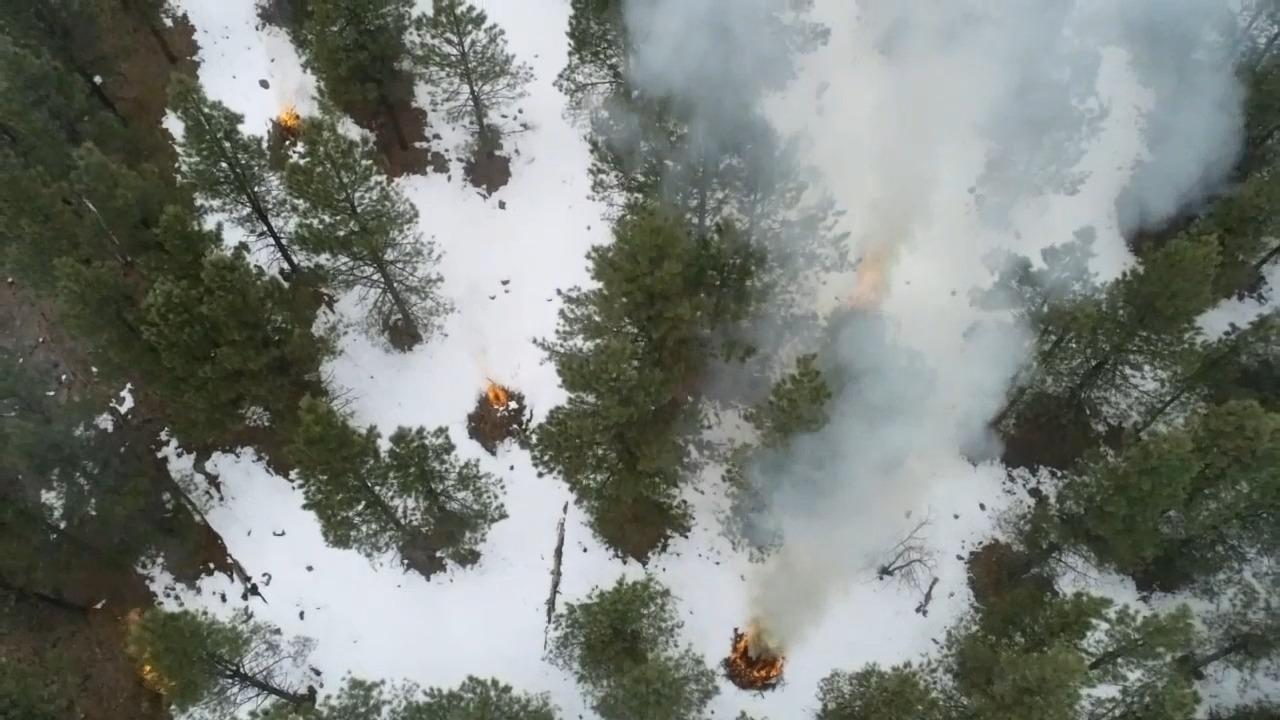fire: (720, 605, 799, 688), (848, 231, 897, 313), (480, 367, 517, 417)
smoke: (818, 0, 1208, 333), (622, 0, 818, 217), (748, 340, 967, 527)
